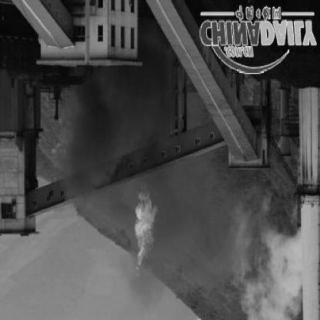Fire: (126, 183, 160, 279)
Smoke: (163, 151, 295, 283)
